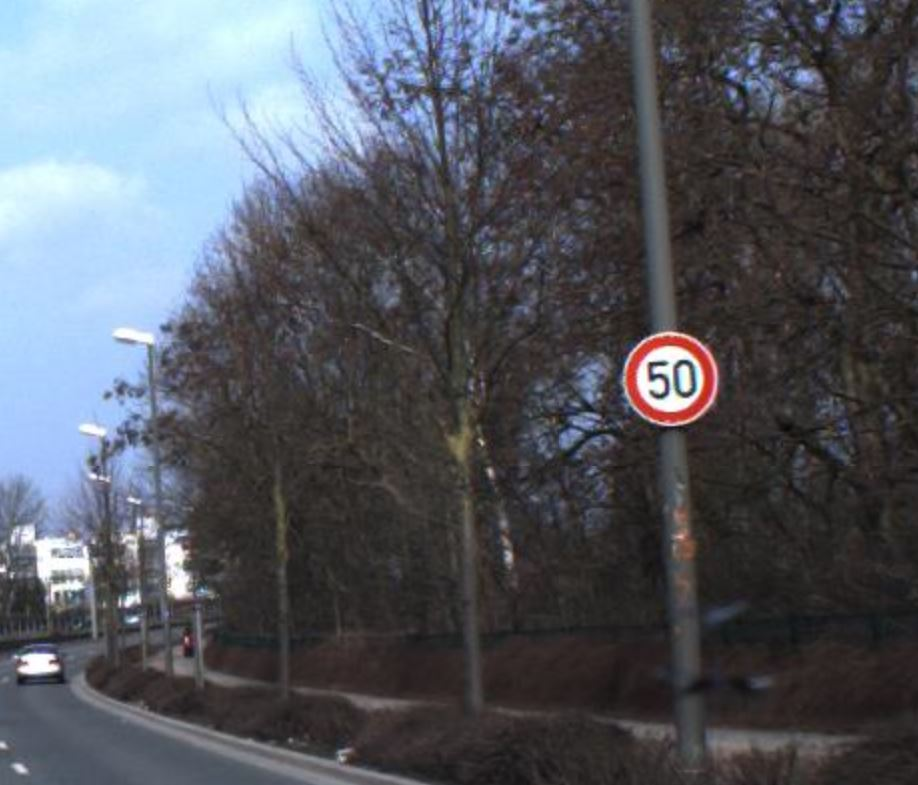50 Km Hiz Siniri: (621, 329, 717, 430)
